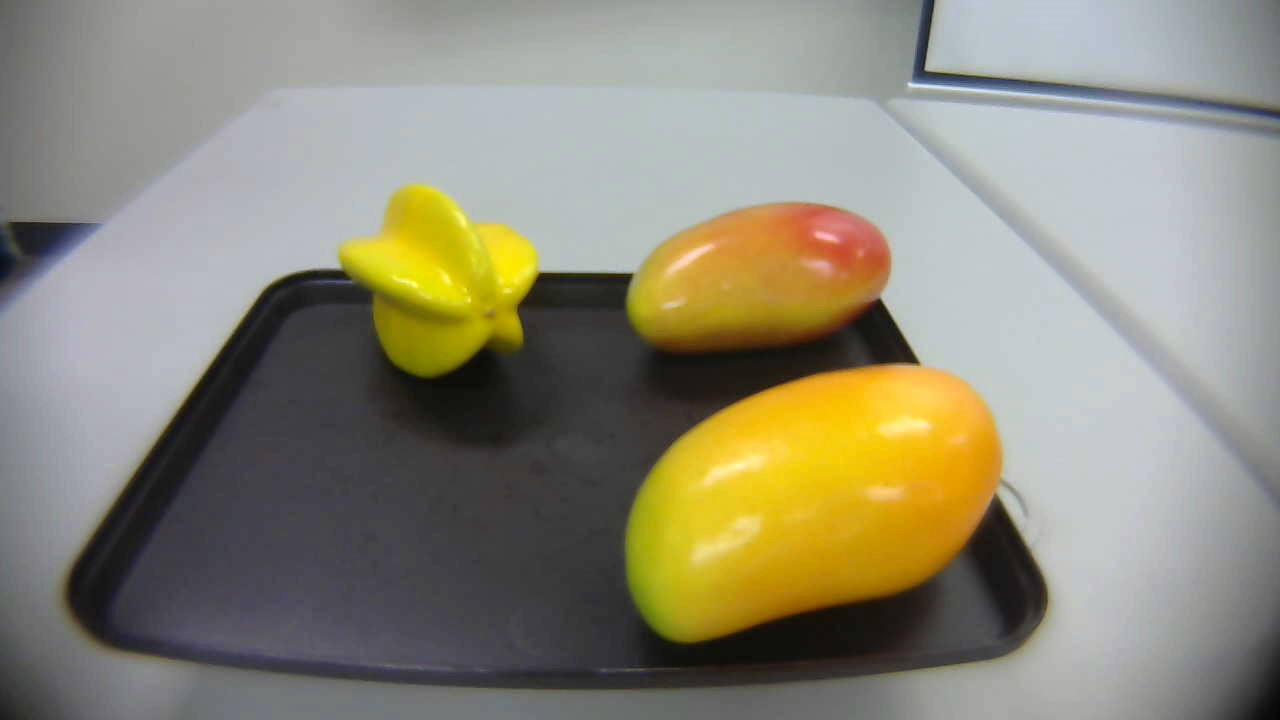red mango: (628, 197, 890, 352)
star fruit: (332, 175, 555, 397)
yellow mango: (604, 363, 1023, 650)
